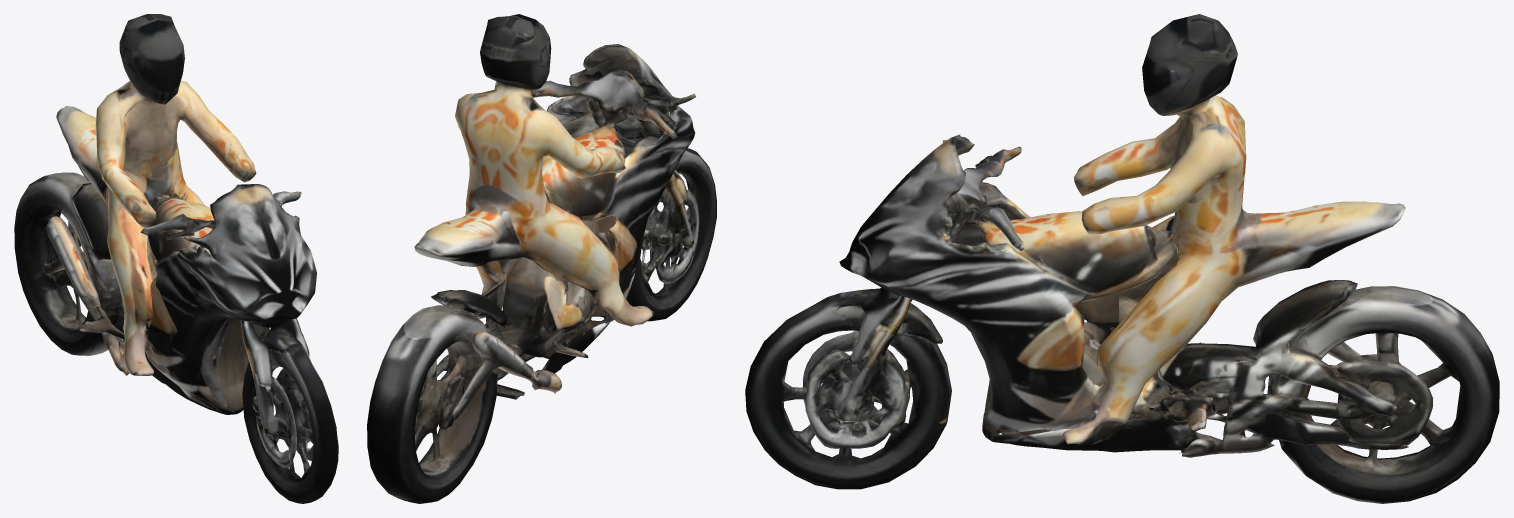
Rendered from sunny_batman_bike_ride_3d_model_ftu.glb.
3 views of the same model, side by side, from view 1: azimuth 30°, elevation 25°; view 2: azimuth 150°, elevation 25°; view 3: azimuth 270°, elevation 25° (orthographic). The views are drawn at different scales.
Parts seen in each view (by area): view 1: Object_4; view 2: Object_4; view 3: Object_4.
Part boxes in pixels (x1,y1,x2,y2): Object_4: (14,14,338,503); Object_4: (367,14,716,503); Object_4: (745,14,1499,503).
Size of the model in its own units: 0.6057 by 1.4 by 2.
1 material, 1 textured.
